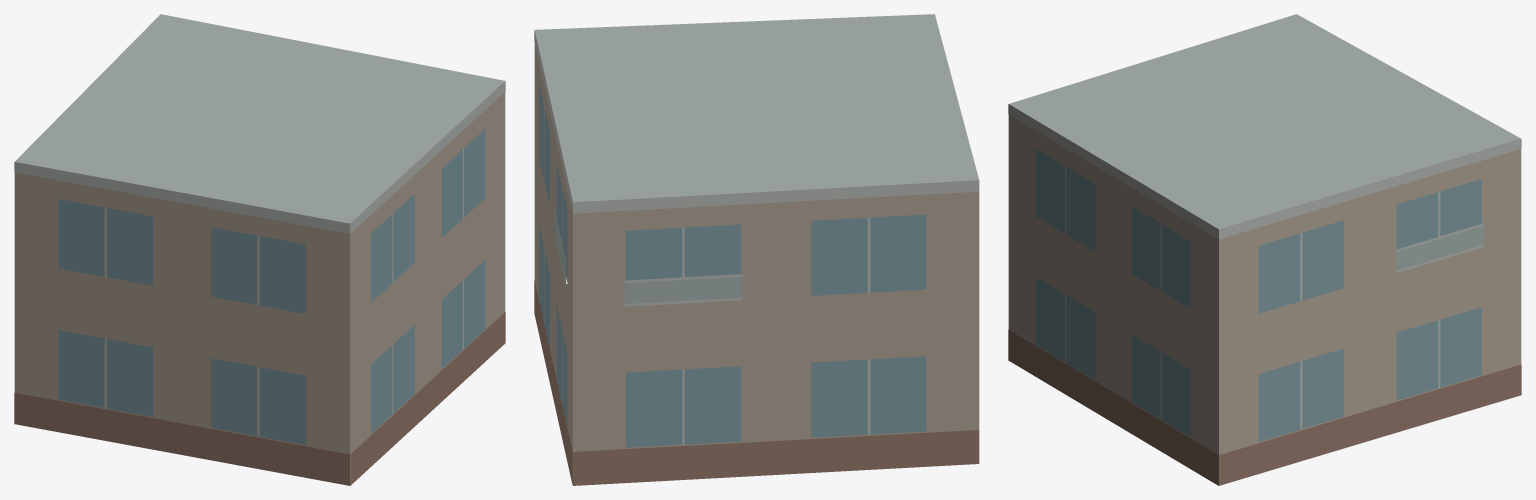
The model's file is survey-upis-32882378.glb.
3 views of the same model, side by side, from view 1: azimuth 30°, elevation 25°; view 2: azimuth 150°, elevation 25°; view 3: azimuth 270°, elevation 25° (orthographic). The views are drawn at different scales.
Visible parts, largest first — view 1: survey-upis-32882378.tmp; view 2: survey-upis-32882378.tmp; view 3: survey-upis-32882378.tmp.
Part boxes in pixels (left/top/right/bottom): survey-upis-32882378.tmp: left=14, top=14, right=505, bottom=485; survey-upis-32882378.tmp: left=534, top=14, right=979, bottom=485; survey-upis-32882378.tmp: left=1008, top=14, right=1521, bottom=485.
Bounding box in the file's own units: 10.99 × 6.1 × 11.06.
